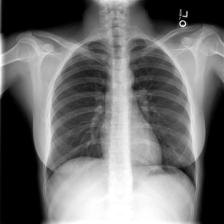normal: (42, 28, 200, 190)
